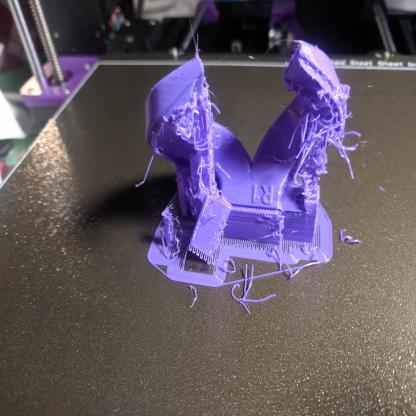fail: (296, 90, 359, 215), (174, 97, 211, 184), (226, 261, 279, 312)
